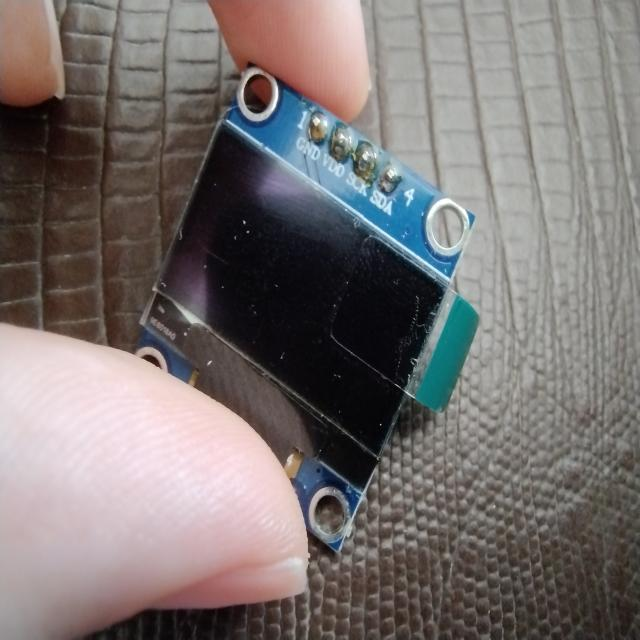oled: (134, 53, 487, 557)
